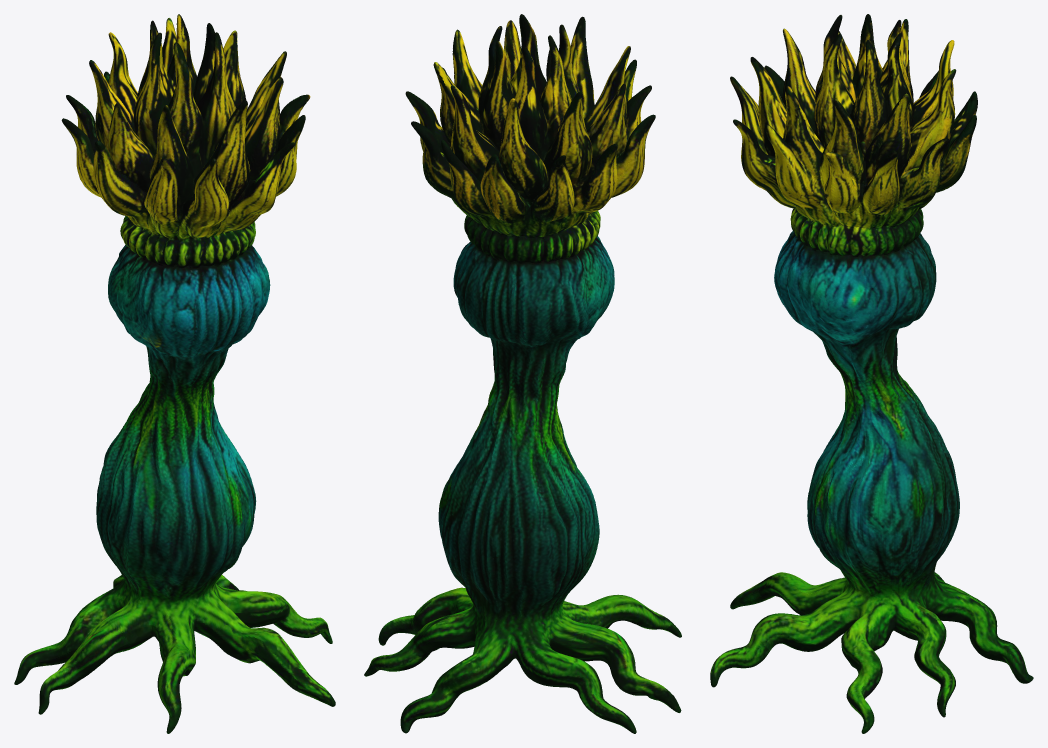
Rendered from Deepsun Chalice.glb.
3 renders of one model, left to right at view 1: azimuth 30°, elevation 25°; view 2: azimuth 150°, elevation 25°; view 3: azimuth 270°, elevation 25°, orthographic. The views are drawn at different scales.
Visible parts, largest first — view 1: tripo_node_28468998-a9dc-49c2-bc8a-81bb841edb2d; view 2: tripo_node_28468998-a9dc-49c2-bc8a-81bb841edb2d; view 3: tripo_node_28468998-a9dc-49c2-bc8a-81bb841edb2d.
Part boxes in pixels (<box>): tripo_node_28468998-a9dc-49c2-bc8a-81bb841edb2d: <box>14,14,335,733</box>; tripo_node_28468998-a9dc-49c2-bc8a-81bb841edb2d: <box>364,14,681,733</box>; tripo_node_28468998-a9dc-49c2-bc8a-81bb841edb2d: <box>710,14,1033,733</box>.
Size of the model in its own units: 0.4763 by 1 by 0.4585.
1 material, 1 textured.
